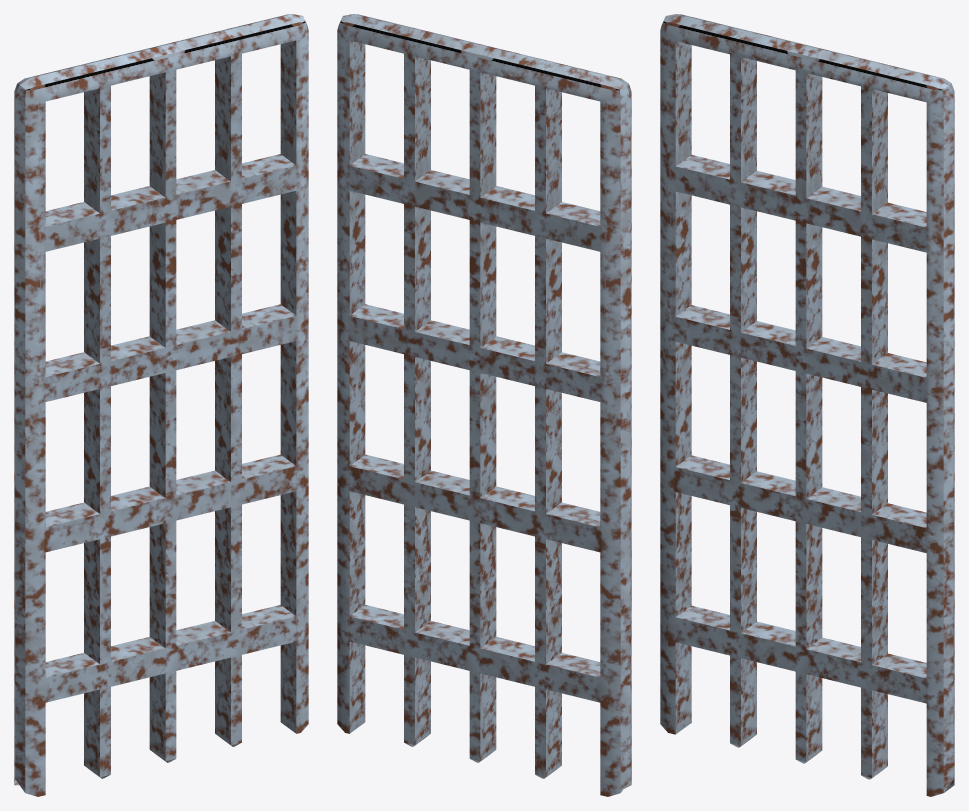
File: metal_gate.glb
3 renders of one model, left to right at view 1: azimuth 30°, elevation 25°; view 2: azimuth 150°, elevation 25°; view 3: azimuth 330°, elevation 25°, orthographic.
Parts seen in each view (by area): view 1: Cube; view 2: Cube; view 3: Cube.
Part boxes in pixels (left/top/right/bottom): Cube: left=14, top=14, right=308, bottom=796; Cube: left=337, top=14, right=631, bottom=796; Cube: left=660, top=14, right=954, bottom=796.
Bounding box in the file's own units: 3 × 7 × 0.2841.
1 material, 1 textured.
